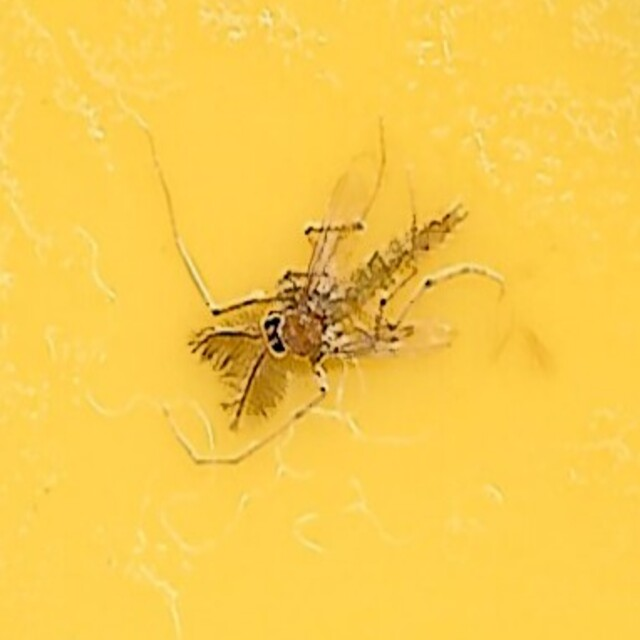Nematocera: (168, 201, 472, 439)
